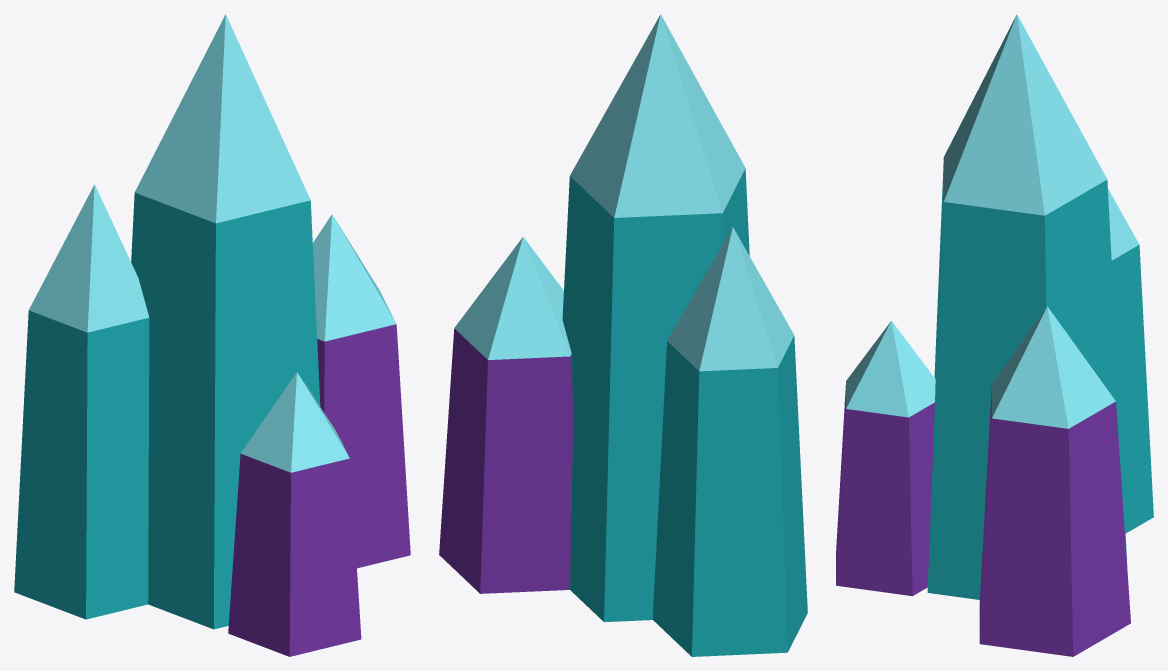
File: cristal_grupo.obj
The picture shows the model from 3 angles, left to right: view 1: azimuth 30°, elevation 25°; view 2: azimuth 150°, elevation 25°; view 3: azimuth 270°, elevation 25°; orthographic projection. The views are drawn at different scales.
Parts seen in each view (by area): view 1: cristal_grupo; view 2: cristal_grupo; view 3: cristal_grupo.
Part boxes in pixels (x1,y1,x2,y2): cristal_grupo: (14, 14, 410, 656); cristal_grupo: (439, 14, 807, 656); cristal_grupo: (836, 14, 1153, 656).
Size of the model in its own units: 1.07 by 1.6 by 0.8356.
